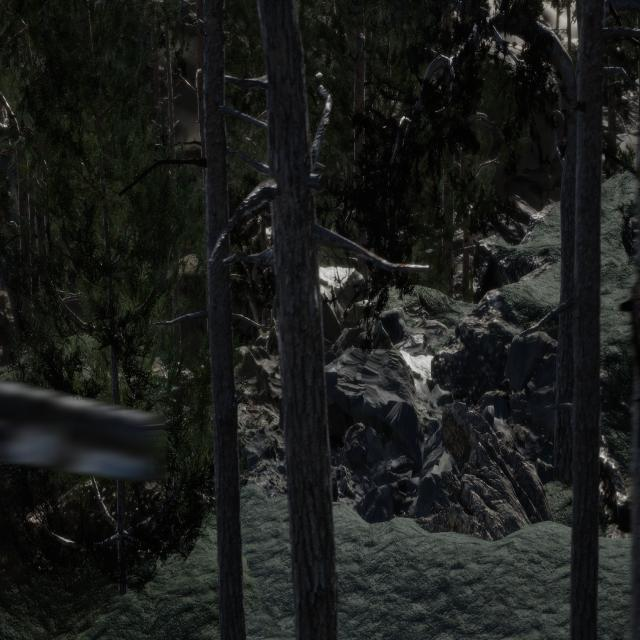Human: (262, 309, 280, 366)
